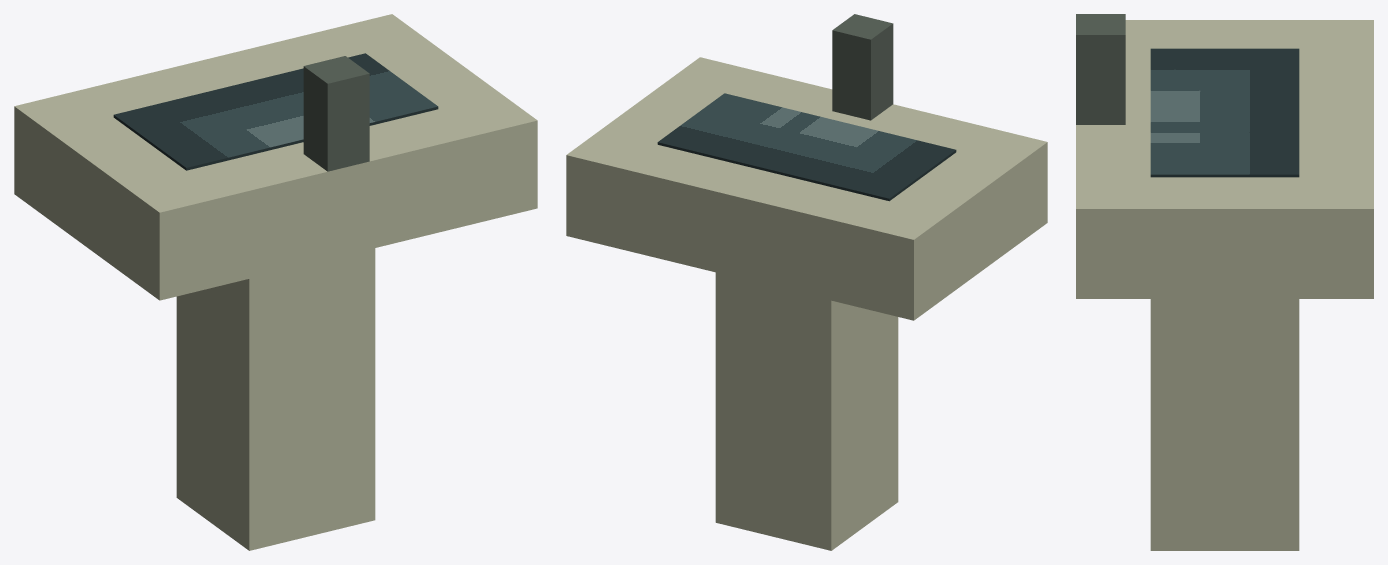
File: bath_sink.gltf
3 renders of one model, left to right at view 1: azimuth 30°, elevation 25°; view 2: azimuth 150°, elevation 25°; view 3: azimuth 270°, elevation 25°, orthographic. The views are drawn at different scales.
Parts seen in each view (by area): view 1: basin, pedestal, inside, tap; view 2: basin, pedestal, inside, tap; view 3: basin, pedestal, inside, tap.
Part boxes in pixels (x1=…): basin: x1=14, y1=14, x2=537, y2=300; pedestal: x1=176, y1=248, x2=375, y2=550; inside: x1=113, y1=53, x2=438, y2=170; tap: x1=303, y1=56, x2=369, y2=171; basin: x1=566, y1=57, x2=1047, y2=320; pedestal: x1=715, y1=272, x2=898, y2=550; inside: x1=657, y1=93, x2=956, y2=201; tap: x1=832, y1=14, x2=893, y2=120; basin: x1=1076, y1=20, x2=1373, y2=298; pedestal: x1=1150, y1=299, x2=1299, y2=550; inside: x1=1150, y1=48, x2=1299, y2=177; tap: x1=1076, y1=14, x2=1125, y2=124.
Size of the model in its own units: 1.12 by 1.38 by 0.75.
3 materials, 3 textured.
